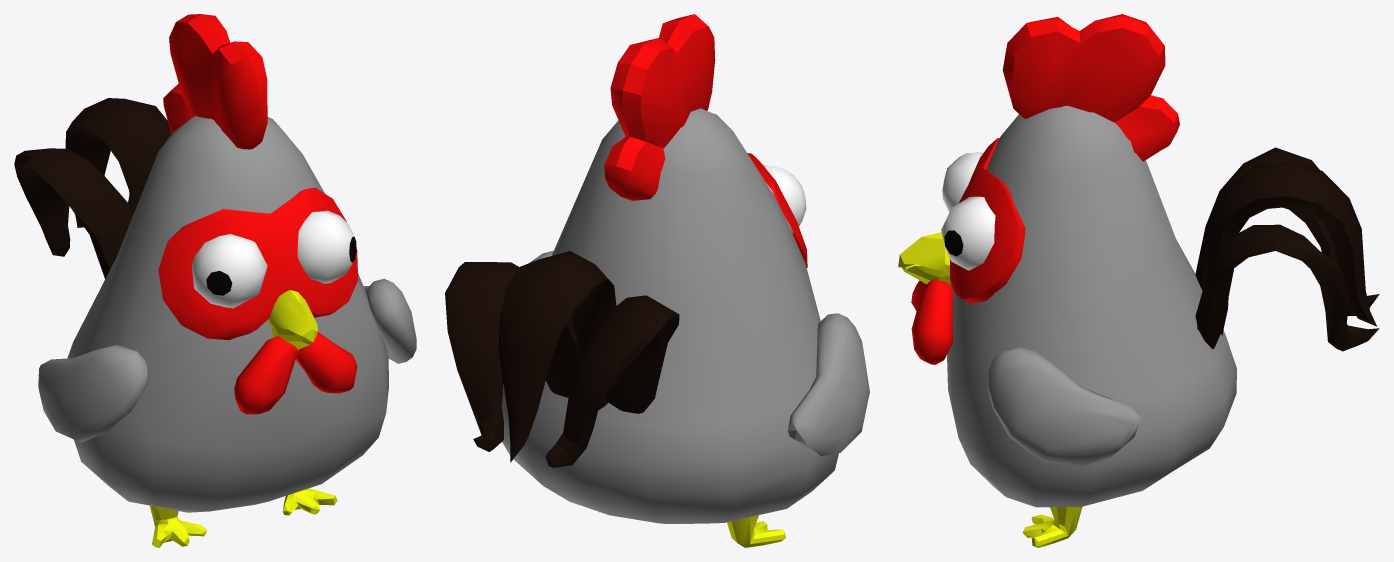
Rendered from FBX_Chicken.fbx.
3 renders of one model, left to right at view 1: azimuth 30°, elevation 25°; view 2: azimuth 150°, elevation 25°; view 3: azimuth 270°, elevation 25°, orthographic. The views are drawn at different scales.
Parts seen in each view (by area): view 1: Chicken; view 2: Chicken; view 3: Chicken.
Part boxes in pixels (x1,y1,x2,y2): Chicken: [14, 14, 416, 547]; Chicken: [445, 14, 869, 547]; Chicken: [898, 14, 1379, 547].
Bounding box in the file's own units: 0.0534 × 0.0722 × 0.0644.
